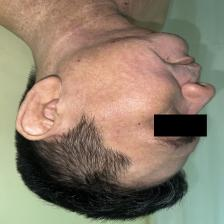DA: (113, 46, 161, 85)
